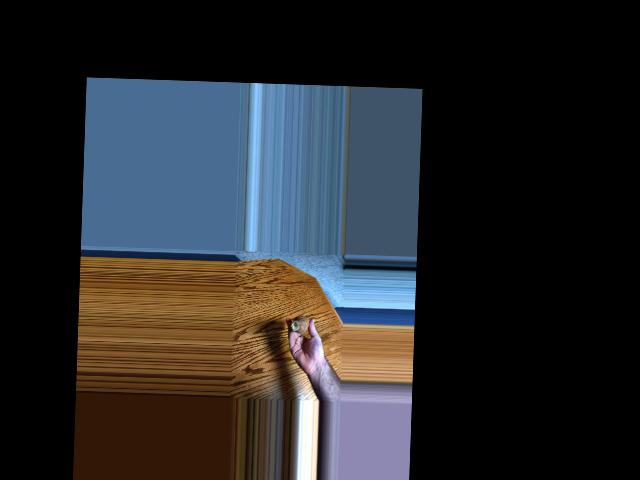sweet_potato: (291, 313, 309, 333)
